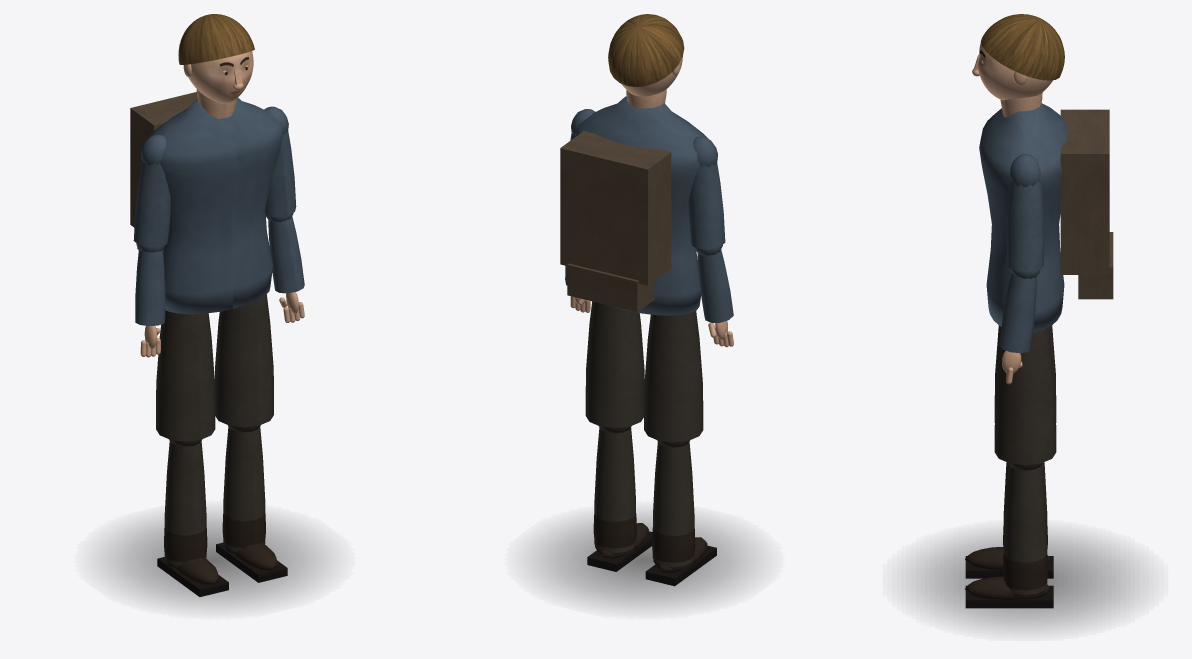
Rendered from npc_settler_c.glb.
3 renders of one model, left to right at view 1: azimuth 30°, elevation 25°; view 2: azimuth 150°, elevation 25°; view 3: azimuth 270°, elevation 25°, orthographic. The views are drawn at different scales.
Visible parts, largest first — view 1: chest, object 11, legL, legR, shinL, shinR, head, armL, foreL, foreR, armR; view 2: chest, object 11, legL, legR, shinL, shinR, head, armL, foreL; view 3: chest, object 11, shinR, legR, head, armR, foreR, shinL, legL.
Boxes of the visible parts, x1,y1,x2,y2 form: chest: [130, 89, 283, 314]; object 11: [102, 512, 327, 607]; legL: [156, 310, 215, 441]; legR: [214, 294, 273, 427]; shinL: [157, 439, 228, 596]; shinR: [216, 425, 287, 582]; head: [178, 14, 254, 103]; armL: [133, 134, 170, 247]; foreL: [135, 243, 165, 357]; foreR: [265, 213, 304, 322]; armR: [264, 106, 296, 217]; chest: [560, 89, 708, 315]; object 11: [532, 513, 756, 607]; legL: [644, 311, 703, 442]; legR: [585, 301, 644, 428]; shinL: [645, 440, 716, 586]; shinR: [587, 426, 652, 571]; head: [608, 14, 684, 96]; armL: [688, 136, 725, 248]; foreL: [694, 244, 733, 347]; chest: [979, 92, 1113, 332]; object 11: [911, 532, 1139, 628]; shinR: [965, 463, 1053, 608]; legR: [994, 327, 1056, 465]; head: [972, 14, 1064, 100]; armR: [1006, 154, 1044, 271]; foreR: [999, 269, 1040, 384]; shinL: [965, 462, 1053, 578]; legL: [994, 325, 1056, 422].
Bounding box in the file's own units: 0.868 × 1.79 × 0.868.
6 materials, 5 textured.
